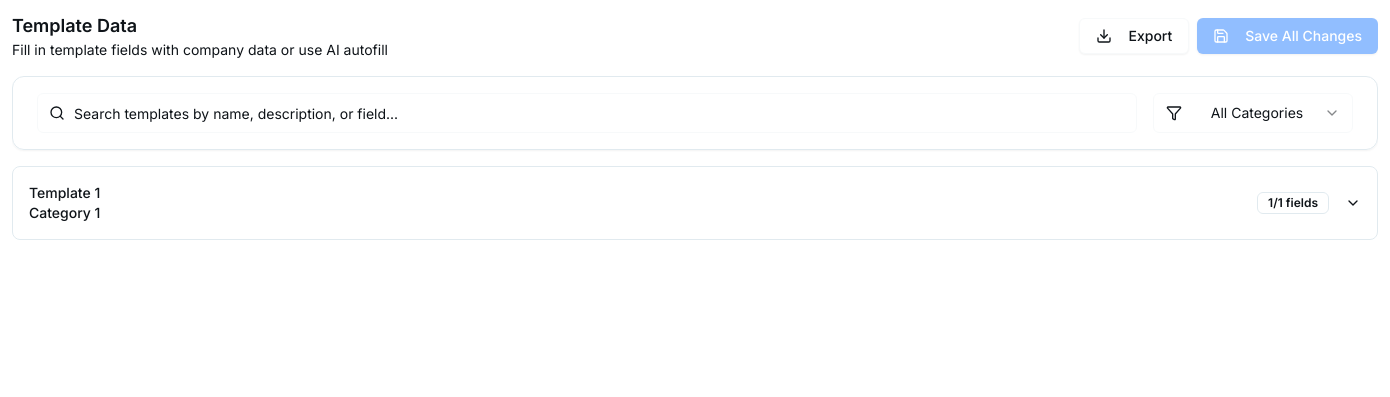
Test case: FrameworkSpreadsheet Component › allows searching templates
Check: the text "Template 1" is shown, box left=29, top=183, right=100, bottom=203
Type "non-existent" into the field with test id "input-template-search" at (587,113), box left=37, top=93, right=1137, bottom=133
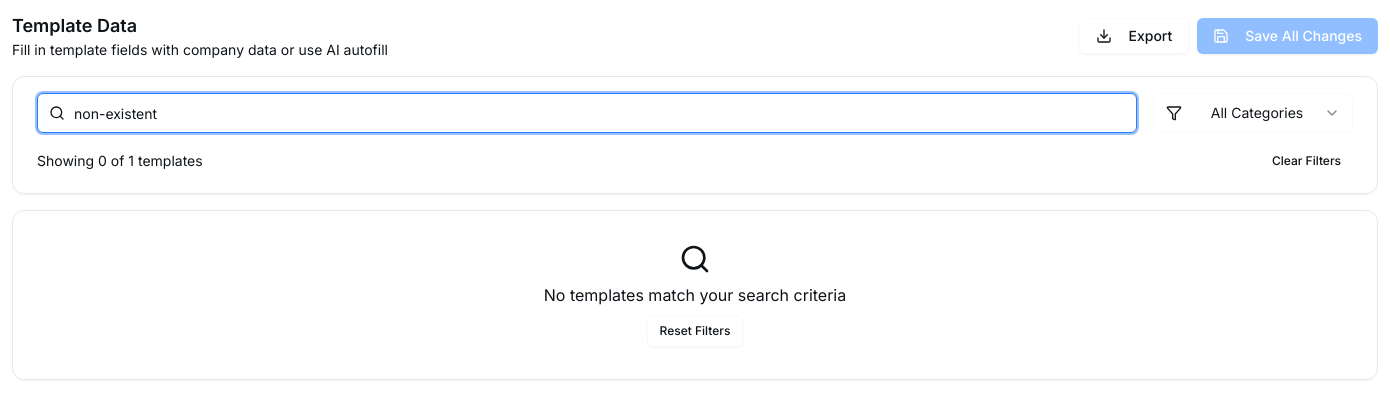
Check: the text "No templates match your search criteria" is shown, box left=544, top=283, right=846, bottom=307
